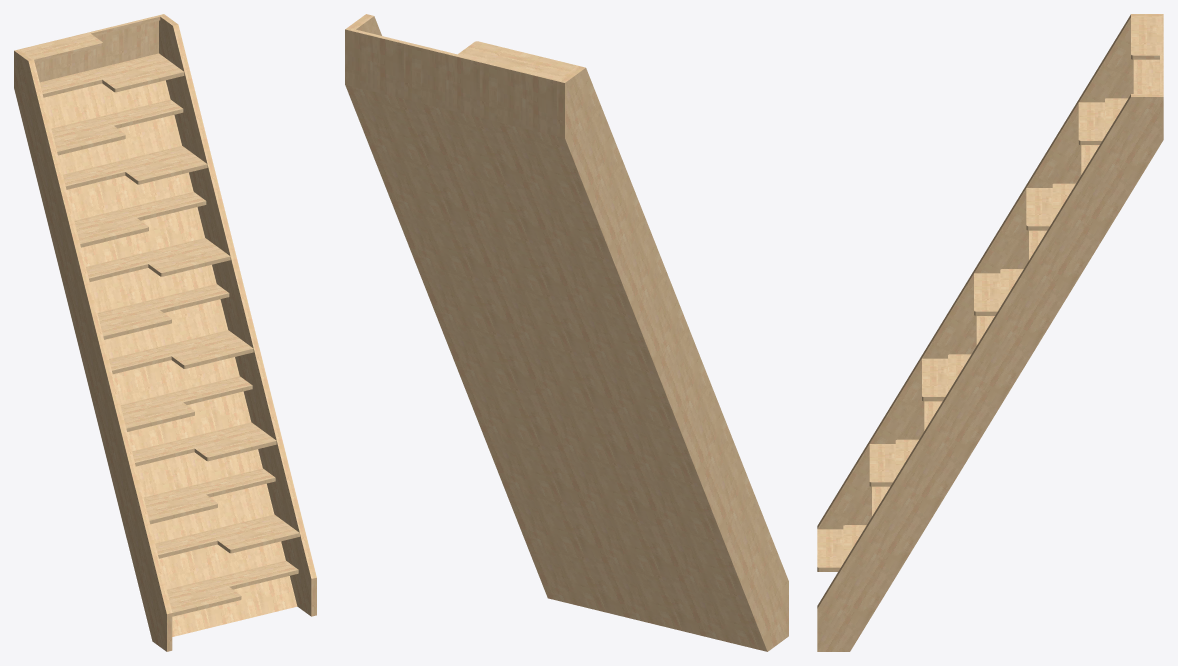
The model's file is staircase_samba_265x150x85.obj.
3 renders of one model, left to right at view 1: azimuth 30°, elevation 25°; view 2: azimuth 150°, elevation 25°; view 3: azimuth 270°, elevation 25°, orthographic. The views are drawn at different scales.
Parts seen in each view (by area): view 1: 17_17, 1_1, 5_5, 15_15; view 2: 17_17, 5_5, 1_1; view 3: 15_15, 5_5, 1_1, 17_17.
Boxes of the visible parts, <box> form: 17_17: <box>14,14,297,641</box>; 1_1: <box>20,16,299,616</box>; 5_5: <box>14,49,172,651</box>; 15_15: <box>159,14,316,616</box>; 17_17: <box>345,29,768,651</box>; 5_5: <box>558,65,788,650</box>; 1_1: <box>354,29,577,80</box>; 15_15: <box>817,94,1162,651</box>; 5_5: <box>817,14,1162,571</box>; 1_1: <box>817,17,1162,571</box>; 17_17: <box>849,14,1163,651</box>.
Bounding box in the file's own units: 85 × 265 × 150.
